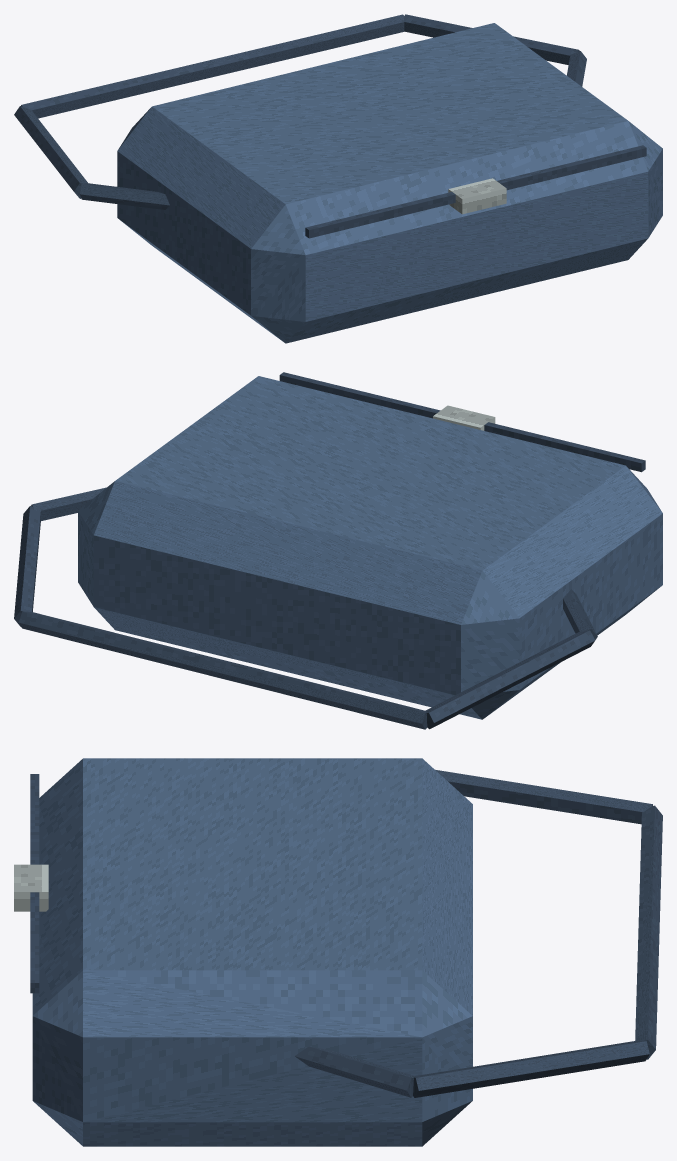
Rendered from mbag.glb.
3 views of the same model, one above another, from view 1: azimuth 30°, elevation 25°; view 2: azimuth 150°, elevation 25°; view 3: azimuth 270°, elevation 25° (orthographic). The views are drawn at different scales.
Visible parts, largest first — view 1: block_bag body, block_shoulder strap 2, block_zipper or closure, block_shoulder strap 1, block_shoulder strap 3, block_shoulder strap 0, block_buckle, block_shoulder strap 4; view 2: block_bag body, block_shoulder strap 2, block_shoulder strap 1, block_zipper or closure, block_shoulder strap 3, block_shoulder strap 4, block_buckle, block_shoulder strap 0; view 3: block_bag body, block_shoulder strap 3, block_shoulder strap 2, block_shoulder strap 1, block_shoulder strap 4, block_zipper or closure, block_buckle.
Part boxes in pixels (x1=…): block_bag body: x1=117, y1=23, x2=662, y2=343; block_shoulder strap 2: x1=21, y1=14, x2=404, y2=118; block_zipper or closure: x1=305, y1=145, x2=646, y2=238; block_shoulder strap 1: x1=14, y1=106, x2=87, y2=198; block_shoulder strap 3: x1=403, y1=14, x2=579, y2=64; block_shoulder strap 0: x1=80, y1=183, x2=169, y2=209; block_buckle: x1=448, y1=178, x2=506, y2=214; block_shoulder strap 4: x1=567, y1=51, x2=586, y2=86; block_bag body: x1=78, y1=376, x2=662, y2=719; block_shoulder strap 2: x1=19, y1=611, x2=427, y2=729; block_shoulder strap 1: x1=425, y1=630, x2=595, y2=729; block_zipper or closure: x1=279, y1=372, x2=645, y2=472; block_shoulder strap 3: x1=14, y1=506, x2=40, y2=626; block_shoulder strap 4: x1=31, y1=487, x2=106, y2=520; block_buckle: x1=433, y1=405, x2=495, y2=430; block_shoulder strap 0: x1=563, y1=589, x2=597, y2=639; block_bag body: x1=32, y1=758, x2=472, y2=1146; block_shoulder strap 3: x1=413, y1=1040, x2=649, y2=1097; block_shoulder strap 2: x1=635, y1=805, x2=662, y2=1059; block_shoulder strap 1: x1=435, y1=769, x2=652, y2=824; block_shoulder strap 4: x1=295, y1=1046, x2=414, y2=1097; block_zipper or closure: x1=30, y1=774, x2=39, y2=993; block_buckle: x1=14, y1=864, x2=48, y2=911.
Bounding box in the file's own units: 0.3291 × 0.084 × 0.28.
1 material, 1 textured.
